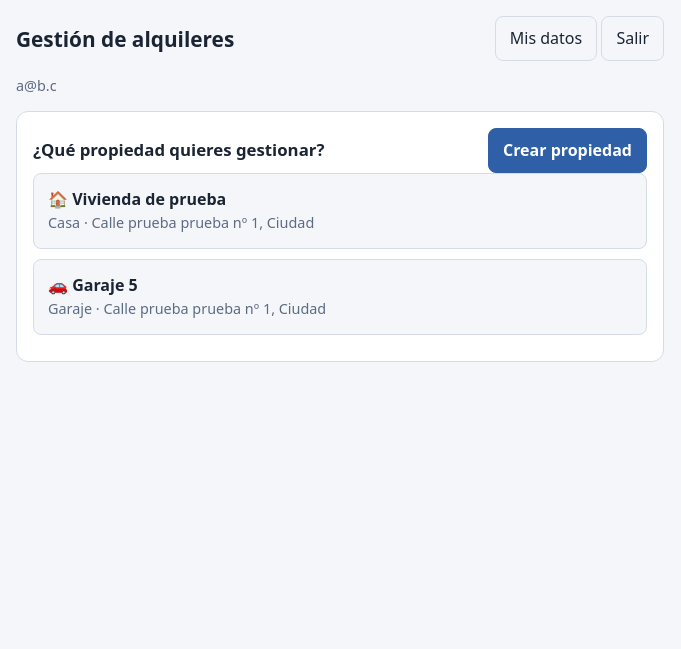
Scenario: tras iniciar sesión se elige propiedad y hay botón para crear
Expected: the heading "¿Qué propiedad quieres gestionar?" is shown, left=33, top=138, right=324, bottom=163
Expected: the text "🏠 Vivienda de prueba" is shown, left=48, top=188, right=226, bottom=211
Click the button "Crear propiedad". click: click(568, 150)
box: left=488, top=128, right=647, bottom=173
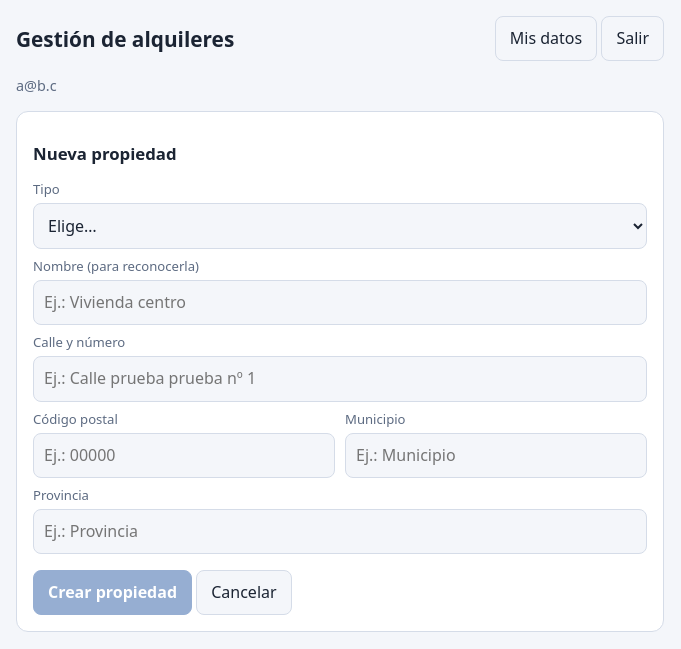
Now the heading "Nueva propiedad" is shown, box left=33, top=142, right=177, bottom=165
